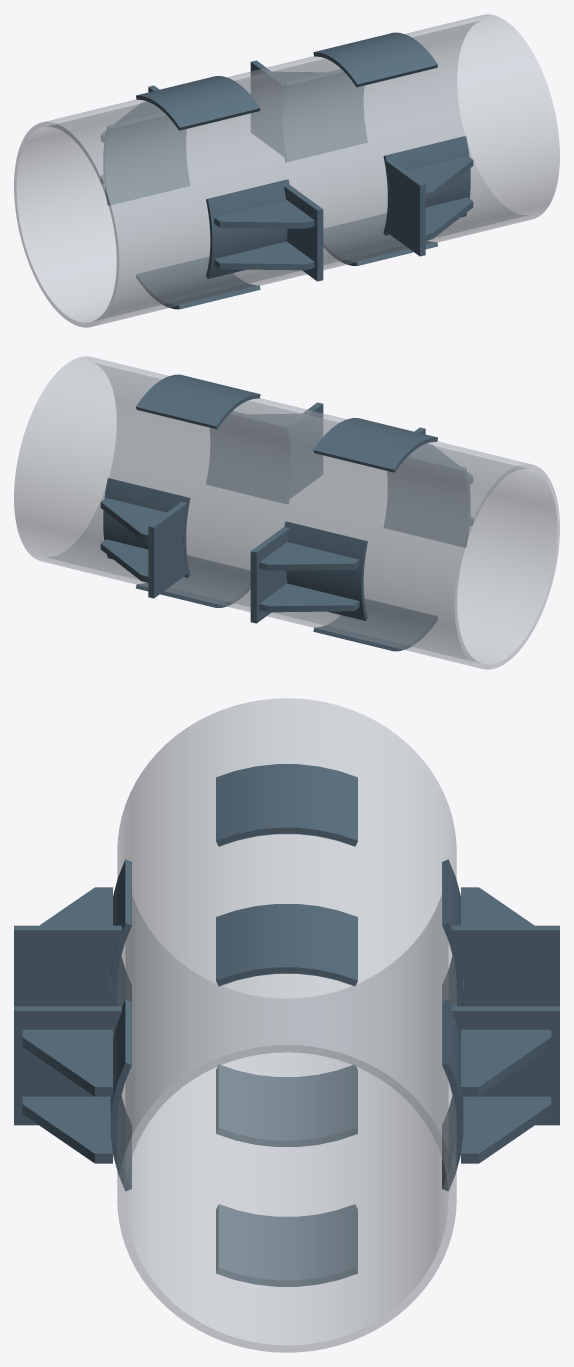
The model's file is TS-663.00.00-03-opora-dn377.glb.
The picture shows the model from 3 angles, top to bottom: view 1: azimuth 30°, elevation 25°; view 2: azimuth 150°, elevation 25°; view 3: azimuth 270°, elevation 25°; orthographic projection. The views are drawn at different scales.
Parts seen in each view (by area): view 1: truba, det_16, det_12, det_17, det_18, det_8, det_20, det_19, det_1, det_4, det_9, det_5 (+5 smaller); view 2: truba, det_8, det_4, det_17, det_18, det_16, det_20, det_19, det_9, det_12, det_1, det_13 (+5 smaller); view 3: truba, det_18, det_19, det_17, det_20, det_5, det_13, det_1, det_9, det_2, det_11, det_3 (+7 smaller).
Part boxes in pixels (left/top/right/bottom): truba: left=14, top=14, right=559, bottom=327; det_16: left=103, top=113, right=189, bottom=205; det_12: left=281, top=69, right=367, bottom=161; det_17: left=313, top=32, right=437, bottom=87; det_18: left=136, top=76, right=260, bottom=130; det_8: left=206, top=179, right=289, bottom=278; det_20: left=136, top=257, right=260, bottom=309; det_19: left=323, top=213, right=437, bottom=265; det_1: left=386, top=160, right=425, bottom=256; det_4: left=383, top=136, right=470, bottom=235; det_9: left=250, top=60, right=284, bottom=156; det_5: left=284, top=185, right=323, bottom=281; truba: left=14, top=356, right=559, bottom=669; det_8: left=384, top=455, right=470, bottom=547; det_4: left=206, top=411, right=292, bottom=503; det_17: left=136, top=374, right=260, bottom=429; det_18: left=313, top=418, right=437, bottom=472; det_16: left=284, top=521, right=367, bottom=620; det_20: left=313, top=599, right=437, bottom=651; det_19: left=136, top=555, right=250, bottom=607; det_9: left=148, top=502, right=187, bottom=598; det_12: left=103, top=478, right=190, bottom=577; det_1: left=289, top=402, right=323, bottom=498; det_13: left=250, top=527, right=289, bottom=623; truba: left=117, top=698, right=456, bottom=1352; det_18: left=216, top=764, right=357, bottom=846; det_19: left=216, top=1204, right=357, bottom=1286; det_17: left=216, top=904, right=357, bottom=986; det_20: left=216, top=1065, right=357, bottom=1146; det_5: left=14, top=925, right=121, bottom=1006; det_13: left=452, top=925, right=559, bottom=1006; det_1: left=14, top=1006, right=121, bottom=1125; det_9: left=452, top=1006, right=559, bottom=1125; det_2: left=22, top=1029, right=112, bottom=1096; det_11: left=461, top=1029, right=551, bottom=1096; det_3: left=22, top=1096, right=112, bottom=1163.
Size of the model in its own units: 911 by 391 by 606.
